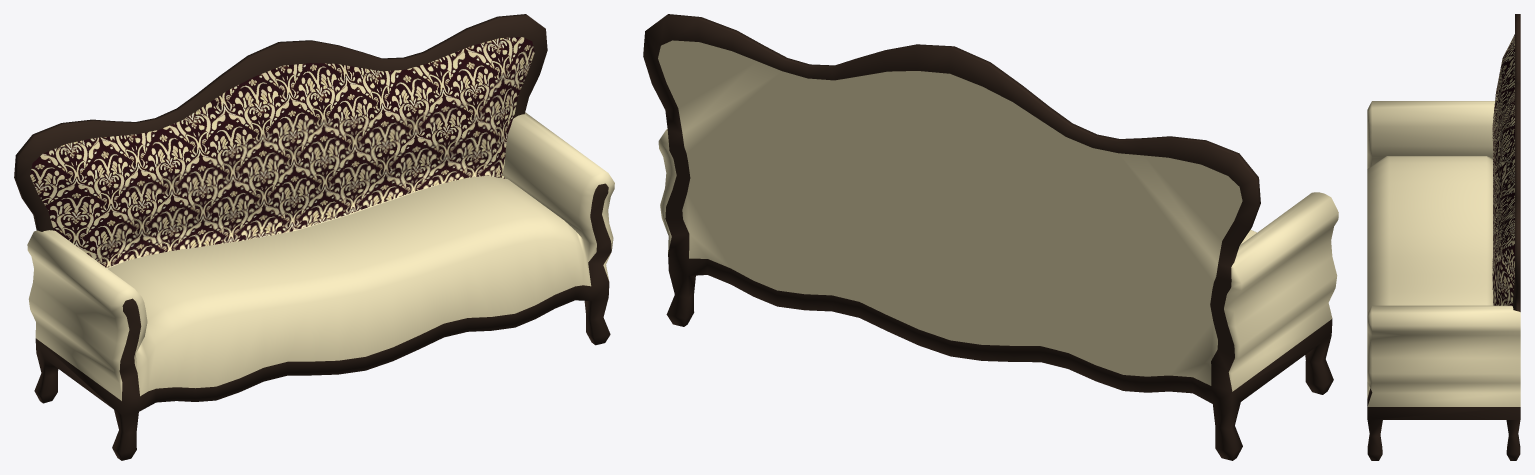
File: sofa.glb
3 renders of one model, left to right at view 1: azimuth 30°, elevation 25°; view 2: azimuth 150°, elevation 25°; view 3: azimuth 270°, elevation 25°, orthographic. The views are drawn at different scales.
Visible parts, largest first — view 1: Sofa; view 2: Sofa; view 3: Sofa.
Boxes of the visible parts, bbox=[...] form: Sofa: bbox=[14, 14, 614, 460]; Sofa: bbox=[643, 14, 1338, 460]; Sofa: bbox=[1367, 14, 1520, 460].
Size of what is drawn, in the model's own units: 3.22 by 1.73 by 0.9088.
2 materials, 2 textured.
